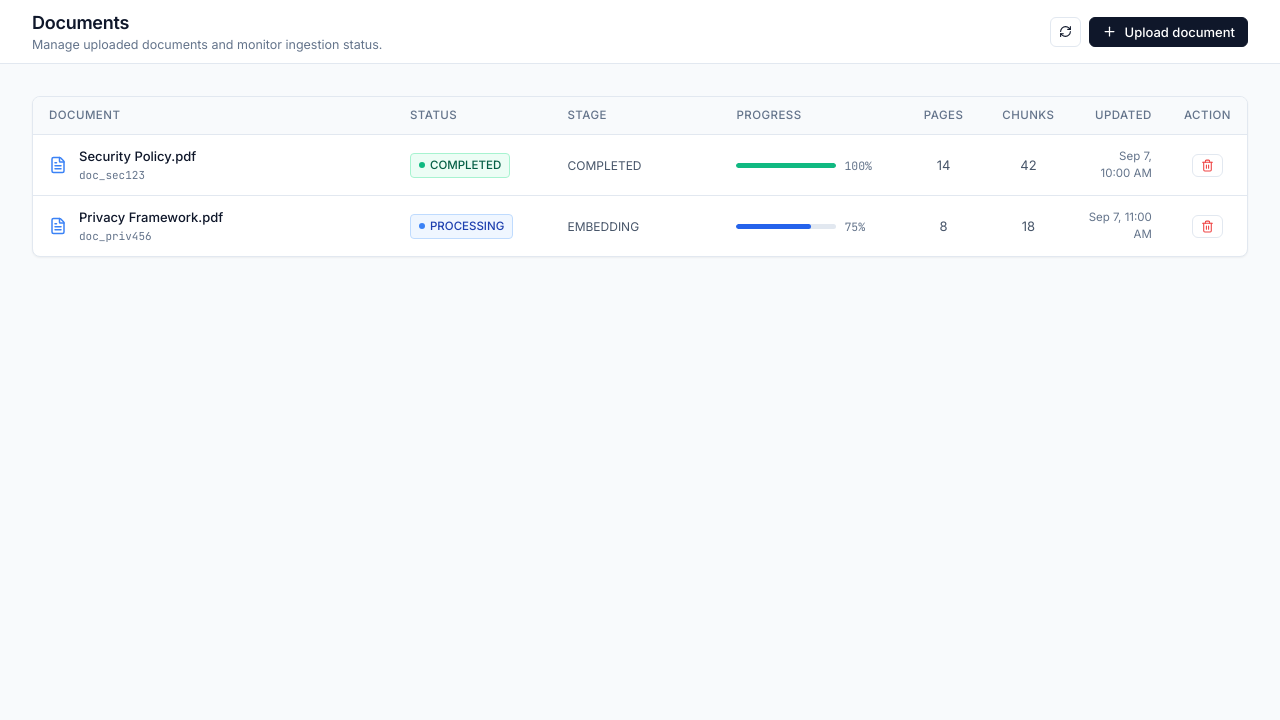
Test: Phase 7 — Enterprise Document Intelligence Frontend Test Suite › state regression: delete confirmation opens immediately without waiting for document refresh
The image size is (1280, 720).
Expected: the text "Security Policy.pdf" is shown, [79,147,196,167]
Click the button named "delete document": [1207, 165] box [1192,154,1223,176]
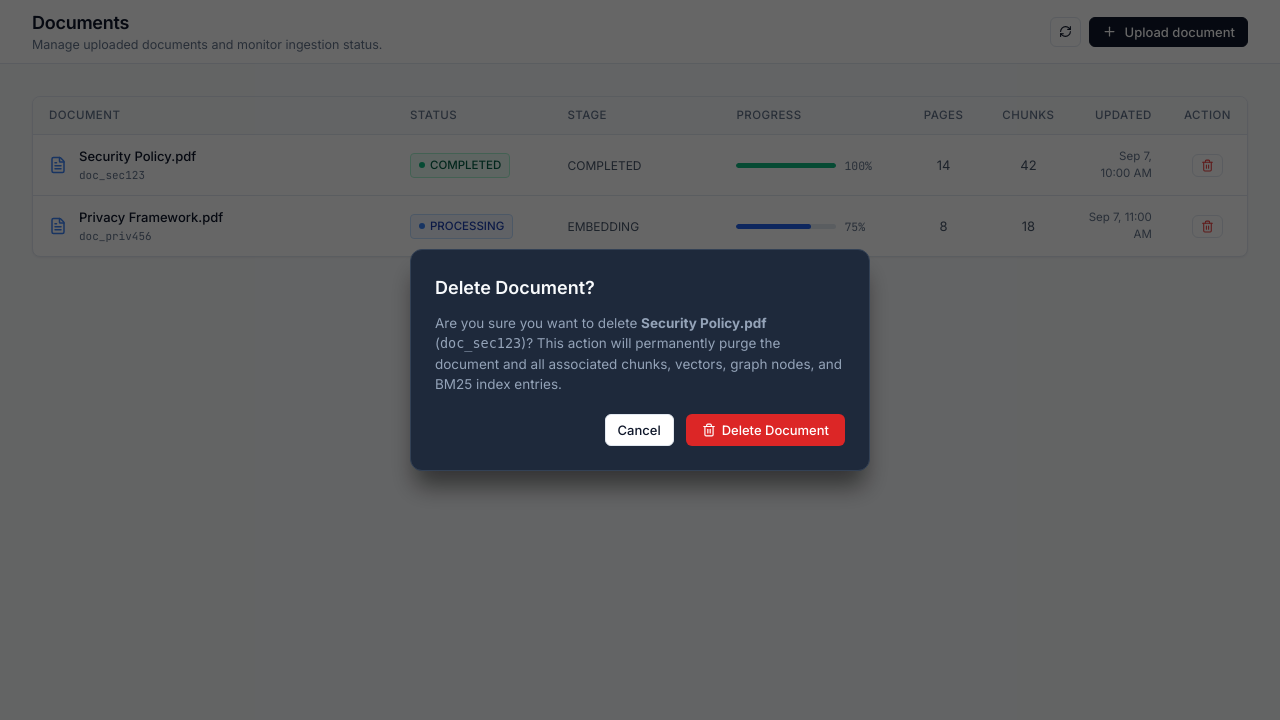
Expected: the element with test id "delete-confirm-modal" is shown, [410,249,870,471]
Expected: the heading "Delete Document?" is shown, [435,277,595,298]
